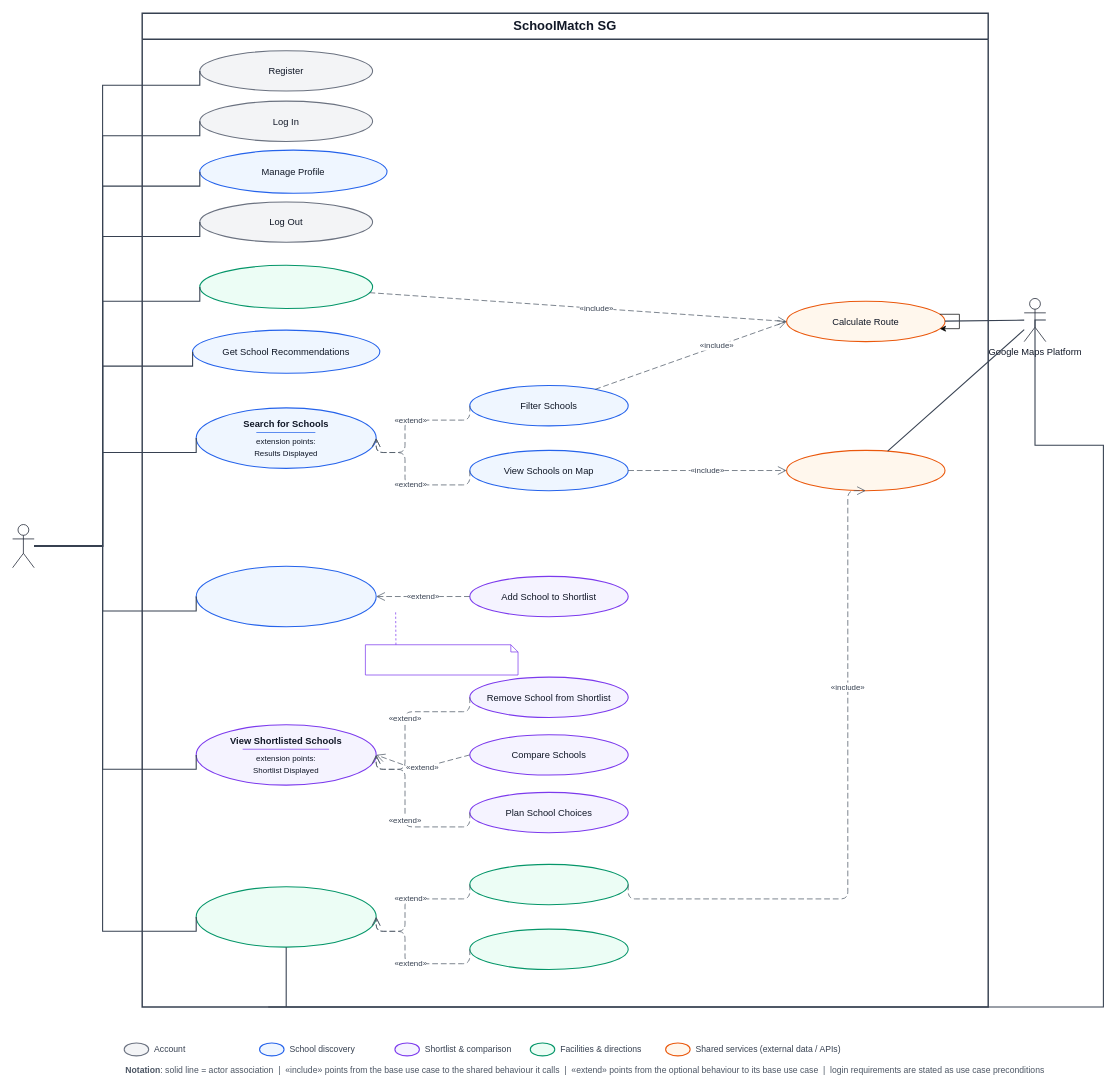
Image size: 1117x1091. Some labels were removed from this diagram. The shapes that lost their labels are listed below. From the top down, each one's centre as x and y in pixels, then its label:
At point 286,286: "Get Directions".
At point 865,470: "Display Interactive Map".
At point 23,546: "User".
At point 285,596: "View School Details extension points: Details Displayed".
At point 441,659: "condition: {User is logged in} extension point: Details Displayed".
At point 548,884: "View Facilities on Map".
At point 285,916: "View Nearby Facilities extension points: Facilities Displayed".
At point 548,949: "View Facility Details".
